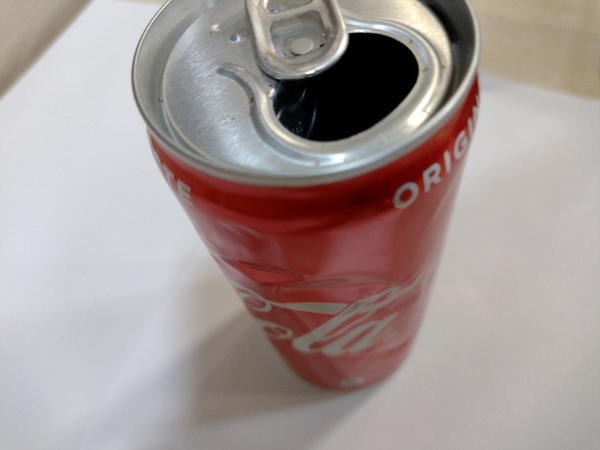can: (122, 1, 487, 399)
